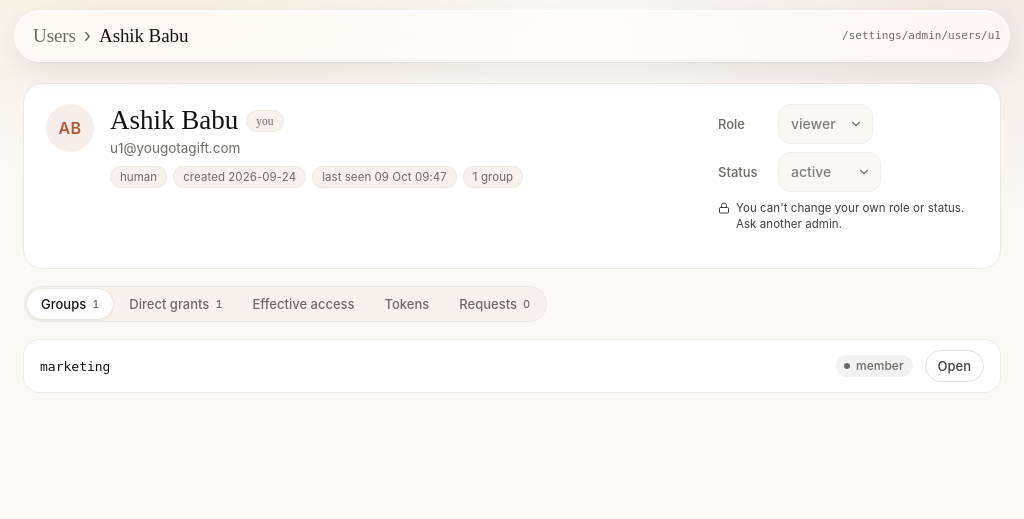
Test: UserDetailPage › on yourself, role, status and grants are locked with the backend sentences
The width and height of the screenshot is (1024, 519).
Expected: the dropdown labelled "Role" is disabled, [778,104,873,144]
Click the tab "Direct grants 1". click: (176, 304)
box: [115,289,237,319]
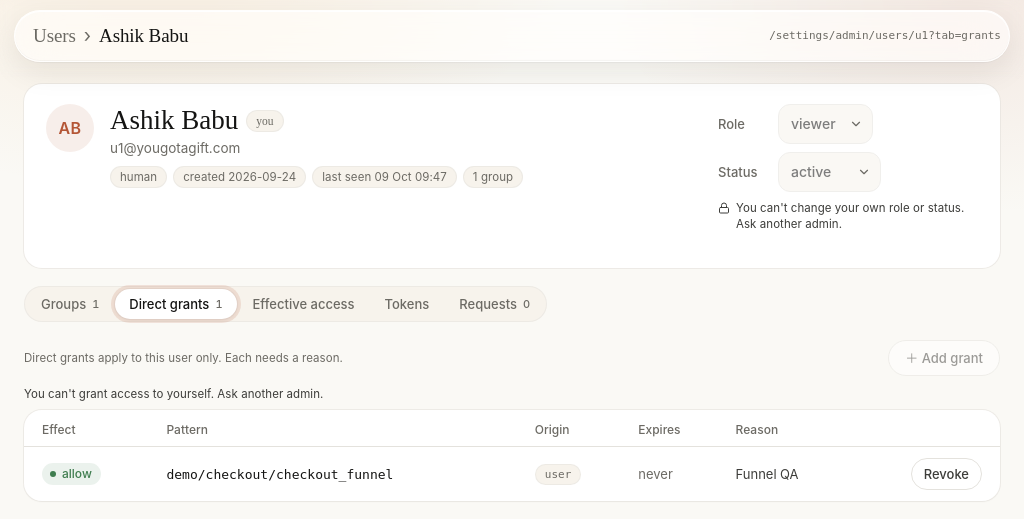
Result: the button "＋ Add grant" is disabled at [888,340,1000,376]
Result: the text "You can't grant access to yourself. Ask another admin." is shown at [24,387,323,401]
